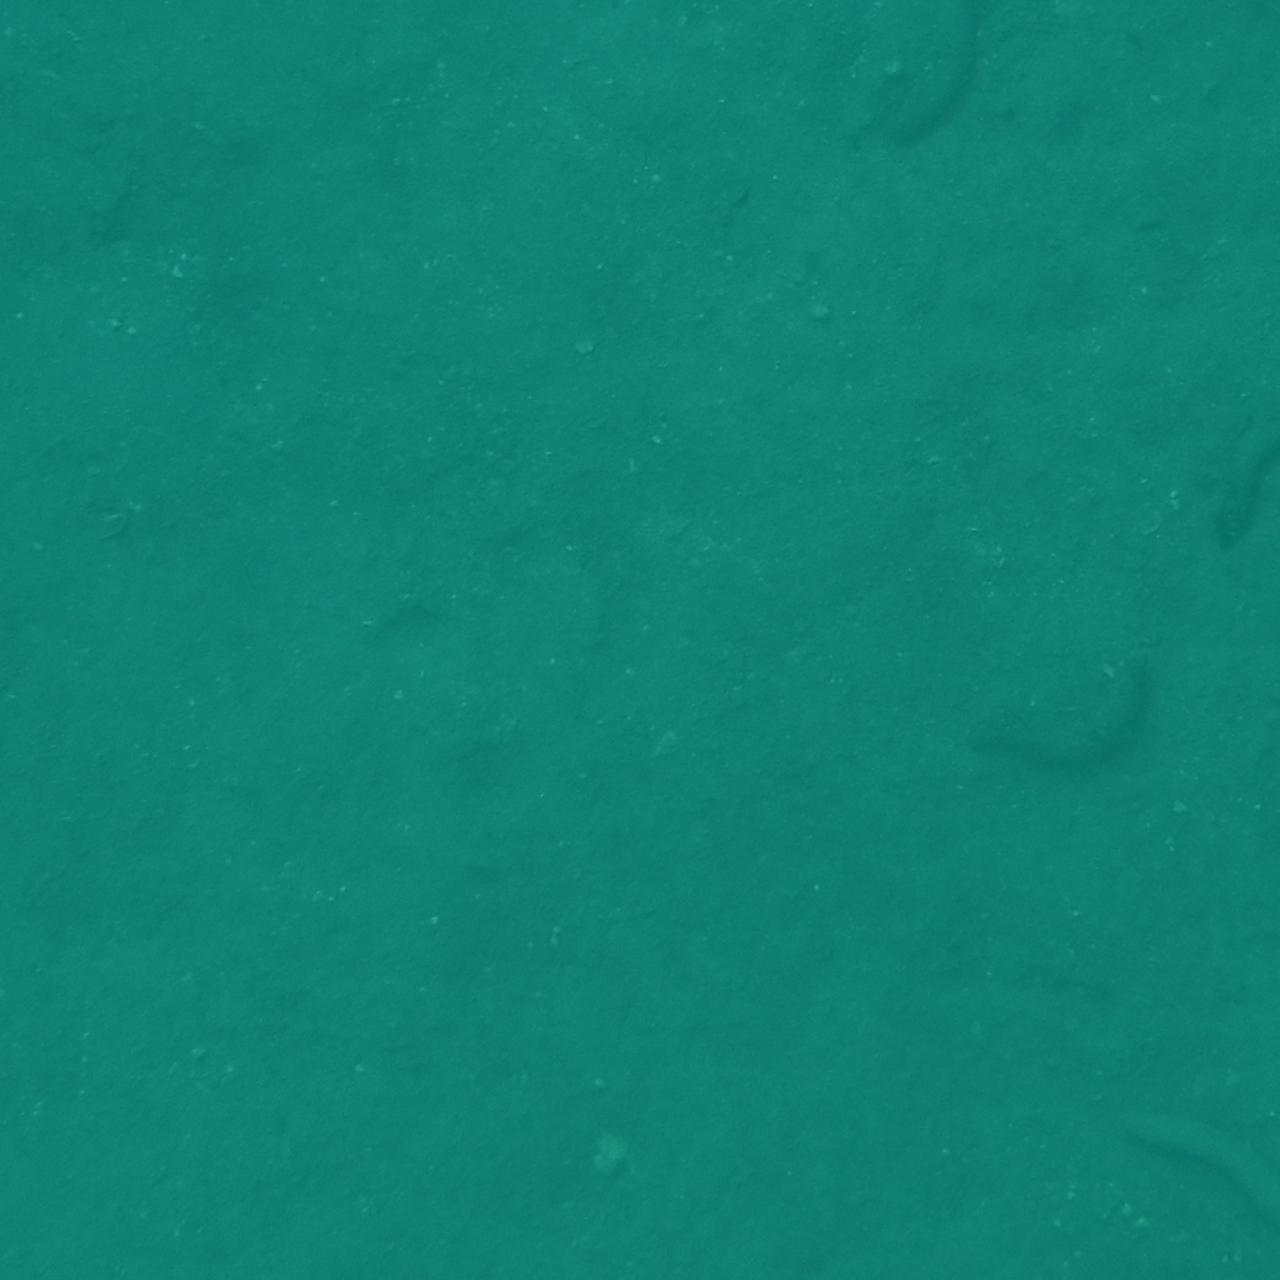Holothuria tubulosa: (1097, 1081, 1280, 1280), (1103, 979, 1280, 1167), (946, 663, 1172, 791), (0, 234, 151, 401), (983, 1141, 1163, 1280), (23, 0, 250, 101), (1177, 173, 1280, 394), (860, 0, 1001, 156), (1191, 33, 1280, 278), (0, 0, 98, 193), (1007, 1208, 1271, 1280), (0, 572, 149, 694), (0, 998, 125, 1129), (1157, 956, 1280, 1082), (456, 0, 678, 66), (397, 1232, 699, 1280), (1198, 384, 1280, 560), (849, 1148, 956, 1280), (0, 1173, 129, 1280), (0, 0, 105, 130), (0, 0, 59, 198), (1193, 252, 1280, 372), (0, 0, 135, 75), (0, 561, 30, 872), (0, 0, 54, 162), (1207, 1167, 1280, 1280), (0, 1201, 89, 1280), (223, 1198, 307, 1280), (1182, 0, 1280, 61), (0, 1212, 77, 1280), (1200, 1228, 1280, 1280)
